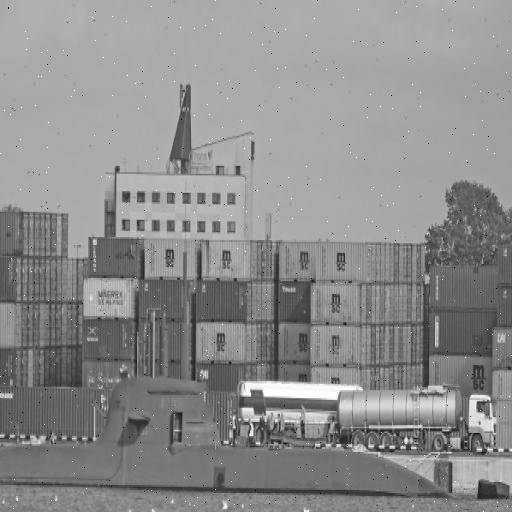submarine: (1, 303, 447, 488)
